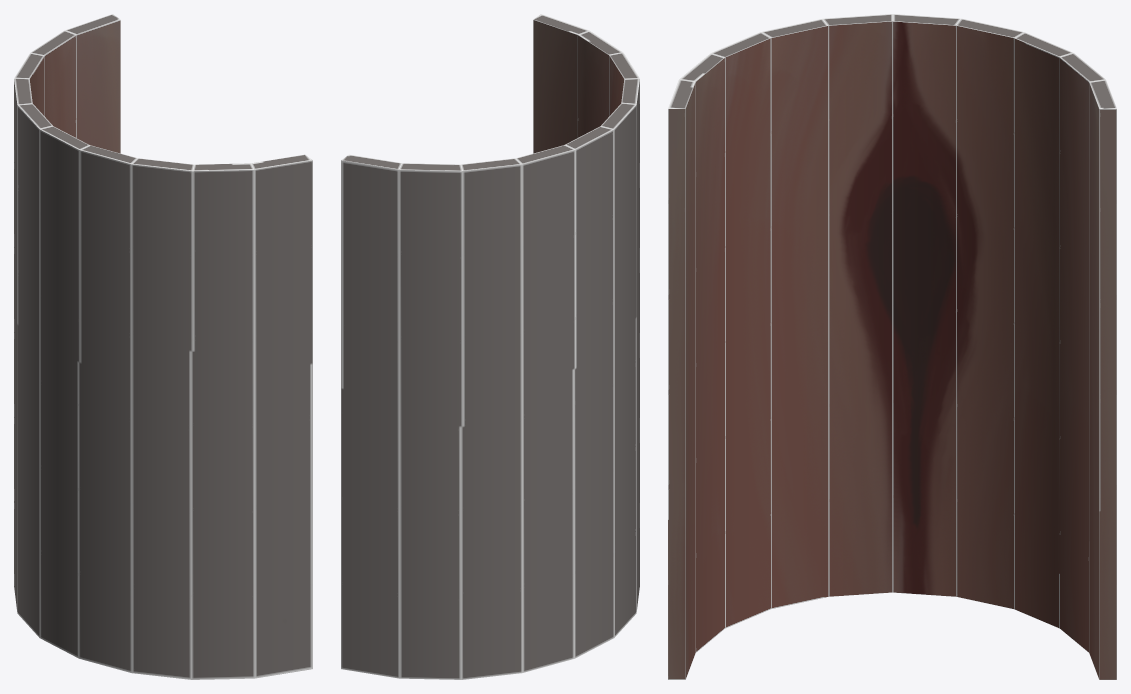
Rendered from Background.fbx.
The picture shows the model from 3 angles, left to right: view 1: azimuth 30°, elevation 25°; view 2: azimuth 150°, elevation 25°; view 3: azimuth 270°, elevation 25°; orthographic projection. The views are drawn at different scales.
Visible parts, largest first — view 1: polySurface14; view 2: polySurface14; view 3: polySurface14.
Part boxes in pixels (x1=…): polySurface14: x1=14, y1=14, x2=312, y2=679; polySurface14: x1=341, y1=14, x2=639, y2=679; polySurface14: x1=668, y1=14, x2=1116, y2=679.
Bounding box in the file's own units: 15.65 × 43.94 × 31.3.
